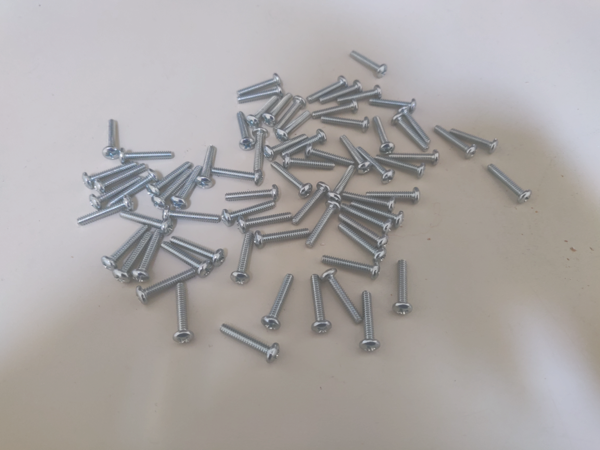longscrew: (320, 272, 364, 323), (219, 324, 277, 361), (89, 174, 143, 210), (133, 270, 197, 300), (108, 168, 161, 204), (114, 232, 152, 281), (77, 195, 137, 226), (104, 223, 145, 268), (161, 241, 211, 277), (490, 162, 533, 203), (154, 166, 197, 206), (358, 290, 383, 358), (389, 256, 414, 324), (170, 233, 224, 264), (339, 215, 389, 248), (341, 227, 390, 260), (265, 271, 291, 332), (432, 124, 478, 158), (309, 275, 333, 339), (320, 253, 381, 278), (173, 165, 206, 211), (272, 160, 311, 198), (307, 203, 339, 249), (95, 163, 147, 191), (149, 161, 194, 193), (358, 146, 395, 183), (297, 179, 327, 224), (376, 151, 426, 178), (256, 228, 314, 251), (139, 232, 165, 283), (400, 105, 433, 145), (239, 209, 296, 232), (352, 202, 404, 227), (340, 211, 393, 235), (392, 114, 428, 149), (223, 202, 280, 224), (339, 134, 370, 174), (83, 163, 134, 187), (119, 213, 174, 234), (280, 133, 326, 158), (233, 232, 254, 286), (195, 144, 220, 189), (235, 88, 289, 108), (235, 74, 284, 96), (344, 190, 397, 210), (367, 187, 420, 207), (212, 165, 267, 184), (453, 127, 498, 150), (175, 285, 191, 349), (372, 115, 398, 154), (162, 208, 221, 225), (330, 165, 357, 202), (275, 95, 306, 127), (351, 49, 387, 76), (248, 96, 280, 126), (306, 77, 346, 101), (308, 147, 354, 167), (275, 111, 309, 138), (309, 102, 362, 119), (286, 155, 336, 173), (372, 94, 417, 113), (267, 133, 308, 153), (320, 82, 360, 102), (223, 186, 284, 199), (338, 86, 382, 104), (322, 117, 370, 133), (251, 130, 269, 171), (265, 93, 291, 121), (106, 120, 122, 163), (120, 150, 176, 162), (239, 111, 254, 153), (391, 150, 441, 162)
